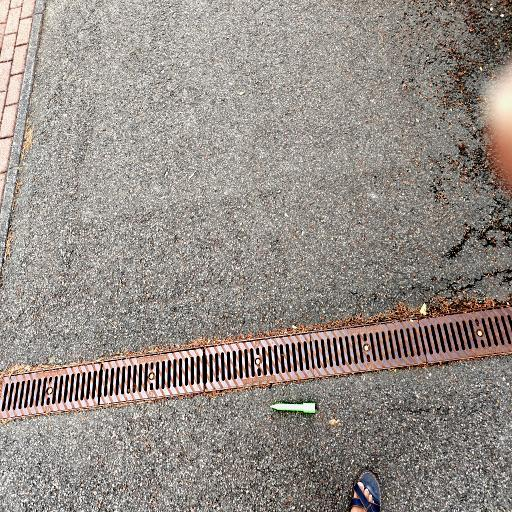Probe-Detection: (270, 403, 315, 413)
